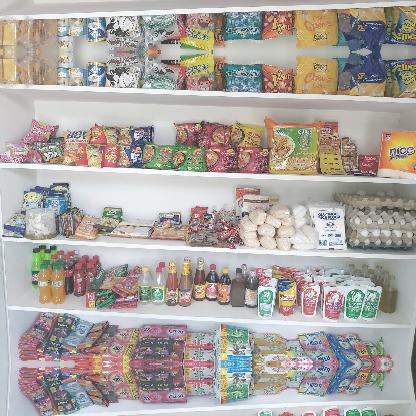Lady-s-Choice: (25, 208, 57, 238)
